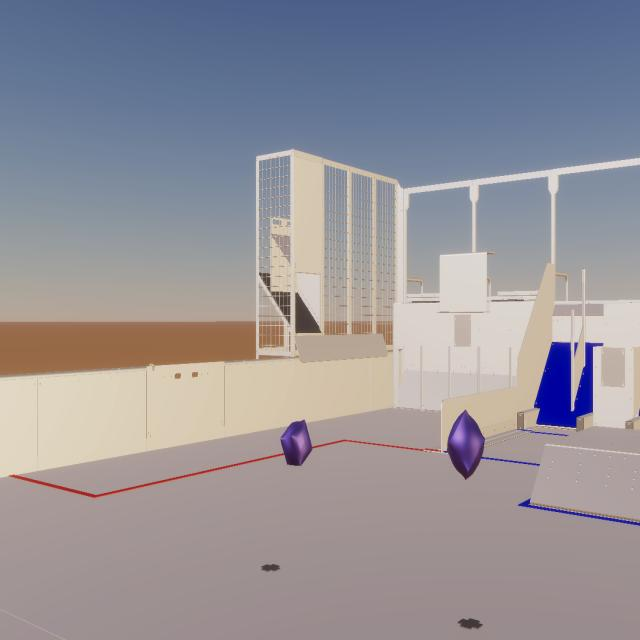frc_cube: (447, 409, 485, 480), (280, 419, 312, 466)
